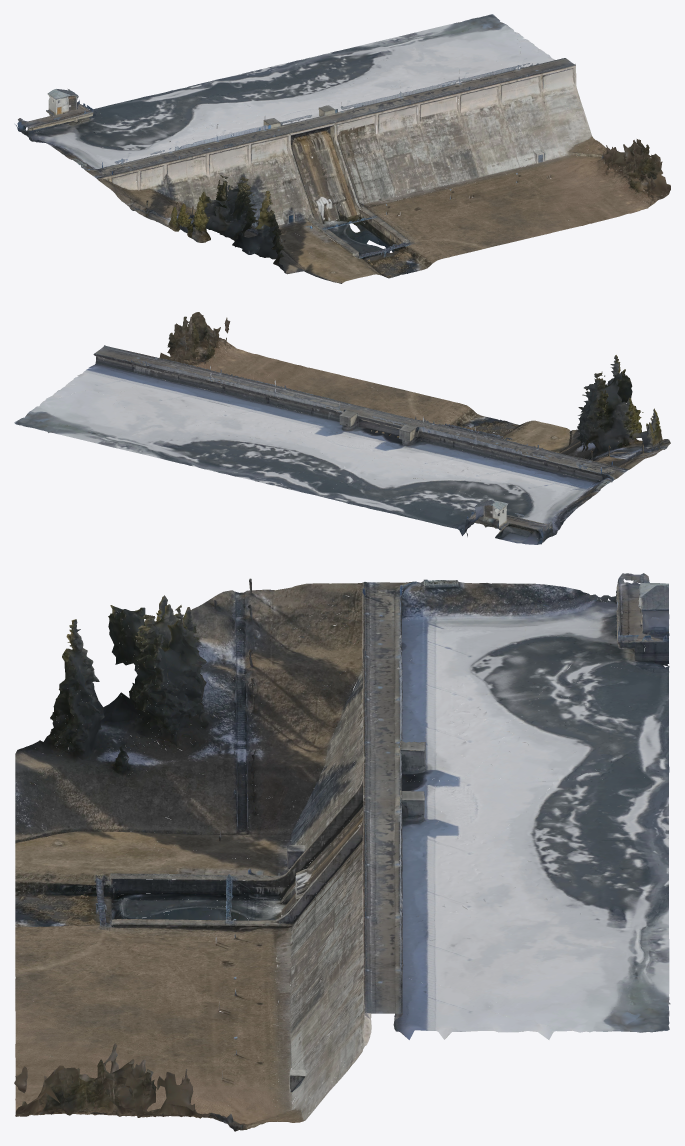
The model's file is dam.glb.
The picture shows the model from 3 angles, top to bottom: view 1: azimuth 30°, elevation 25°; view 2: azimuth 150°, elevation 25°; view 3: azimuth 270°, elevation 25°; orthographic projection. The views are drawn at different scales.
Parts seen in each view (by area): view 1: DAM; view 2: DAM; view 3: DAM.
Part boxes in pixels (bbox=[...]): DAM: bbox=[15, 14, 670, 283]; DAM: bbox=[14, 312, 670, 544]; DAM: bbox=[14, 573, 670, 1131].
Size of the model in its own units: 4.77 by 1.08 by 3.08.
4 materials, 4 textured.
